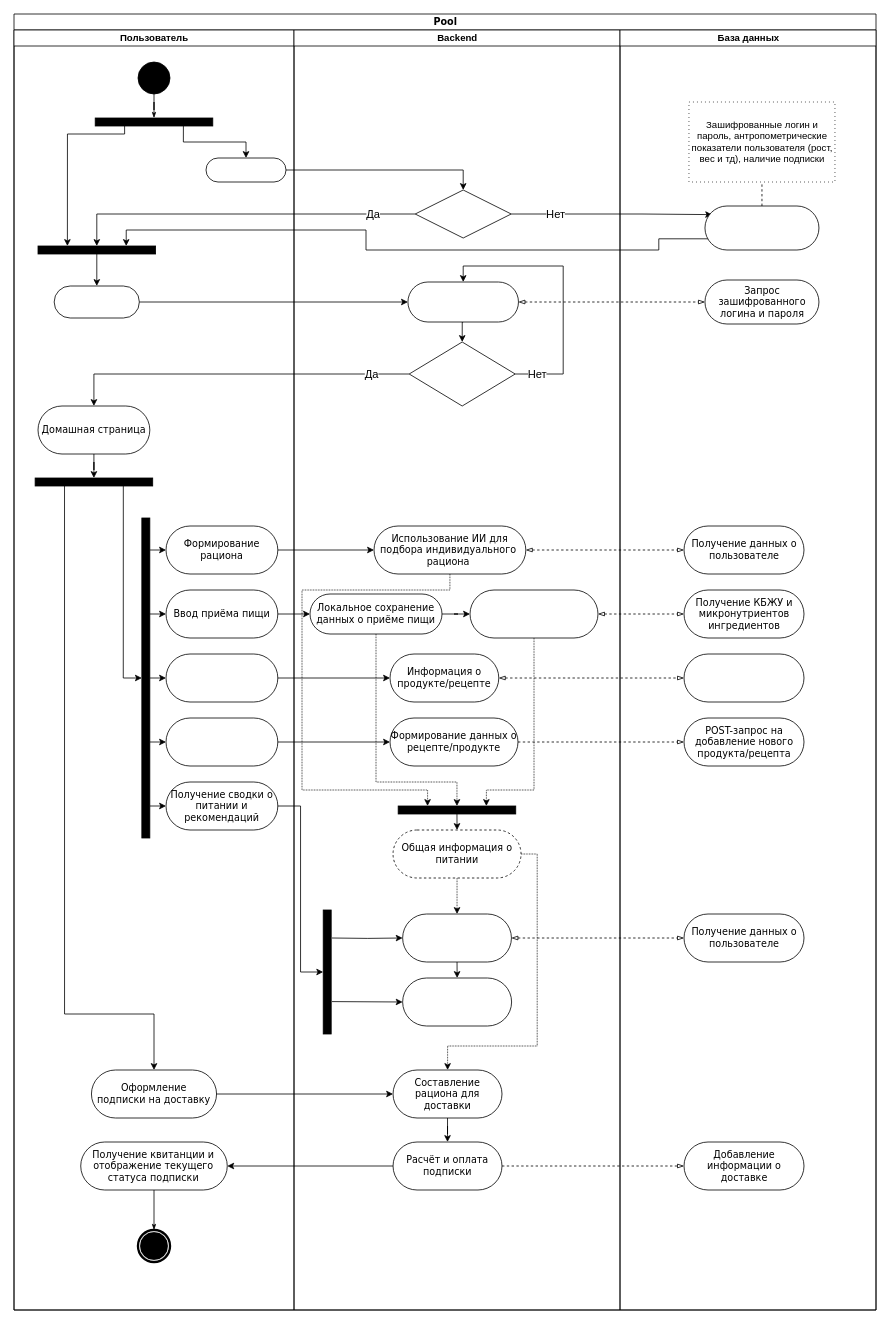
This 890x1324 diagram has some shape labels left out. The centre of each missing label's shape, as x and y in pixels:
"GET-запрос на получение продукта/рецепта" belongs at point (743, 677).
"Авторизация пользователя" belongs at point (462, 301).
"Аккаунт уже существует?" belongs at point (462, 213).
"Вход в систему" belongs at point (96, 301).
"Генерация рекомендаций при помощи ИИ" belongs at point (457, 1001).
"Данные соответствуют?" belongs at point (461, 373).
"Добавление нового продукта/рецепта" belongs at point (221, 741).
"Поиск продукта/рецепта по названию" belongs at point (221, 677).
"Расчёт и добавление КБЖУ и микронутриентов в общий посчёт" belongs at point (533, 613).
"Регистрация" belongs at point (245, 169).
"Создание нового пользователя" belongs at point (761, 227).
"Формирование сводки" belongs at point (456, 937).
